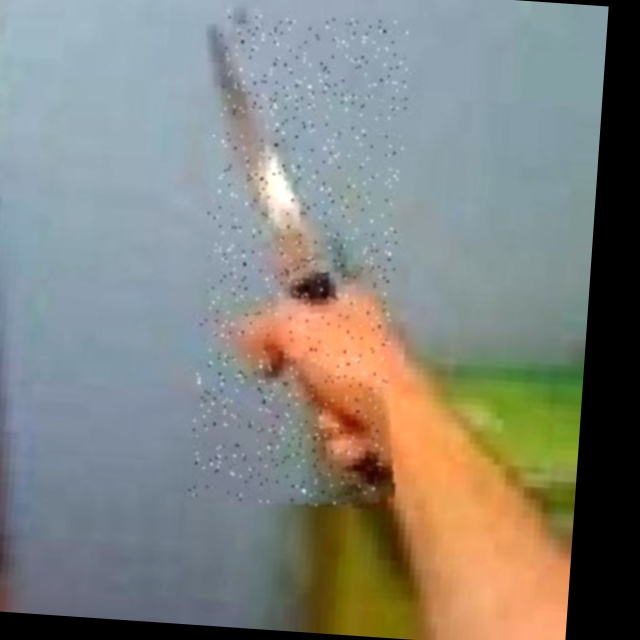Sharp-Object: (189, 10, 412, 510)
